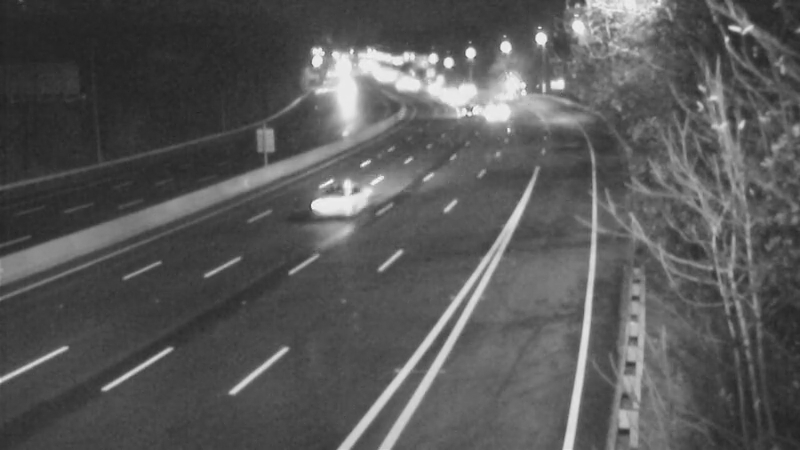vehicle: (290, 165, 370, 245), (440, 63, 490, 113), (404, 61, 454, 111), (429, 75, 479, 125), (494, 67, 544, 117), (440, 83, 490, 133), (469, 88, 519, 138)
